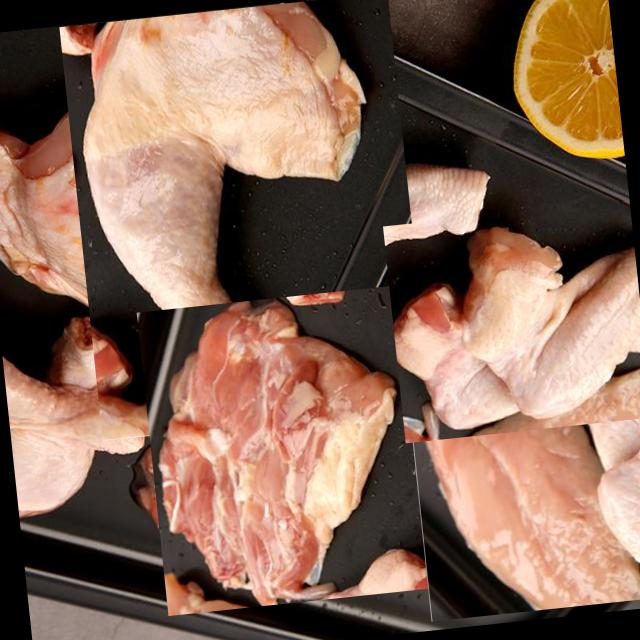chicken: (16, 0, 469, 402), (130, 290, 448, 609), (399, 351, 640, 615), (382, 199, 640, 442)
